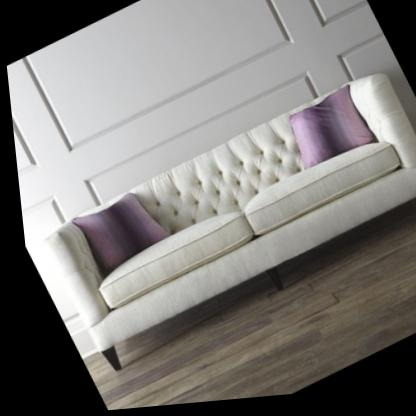Sofa: (19, 63, 416, 380)
